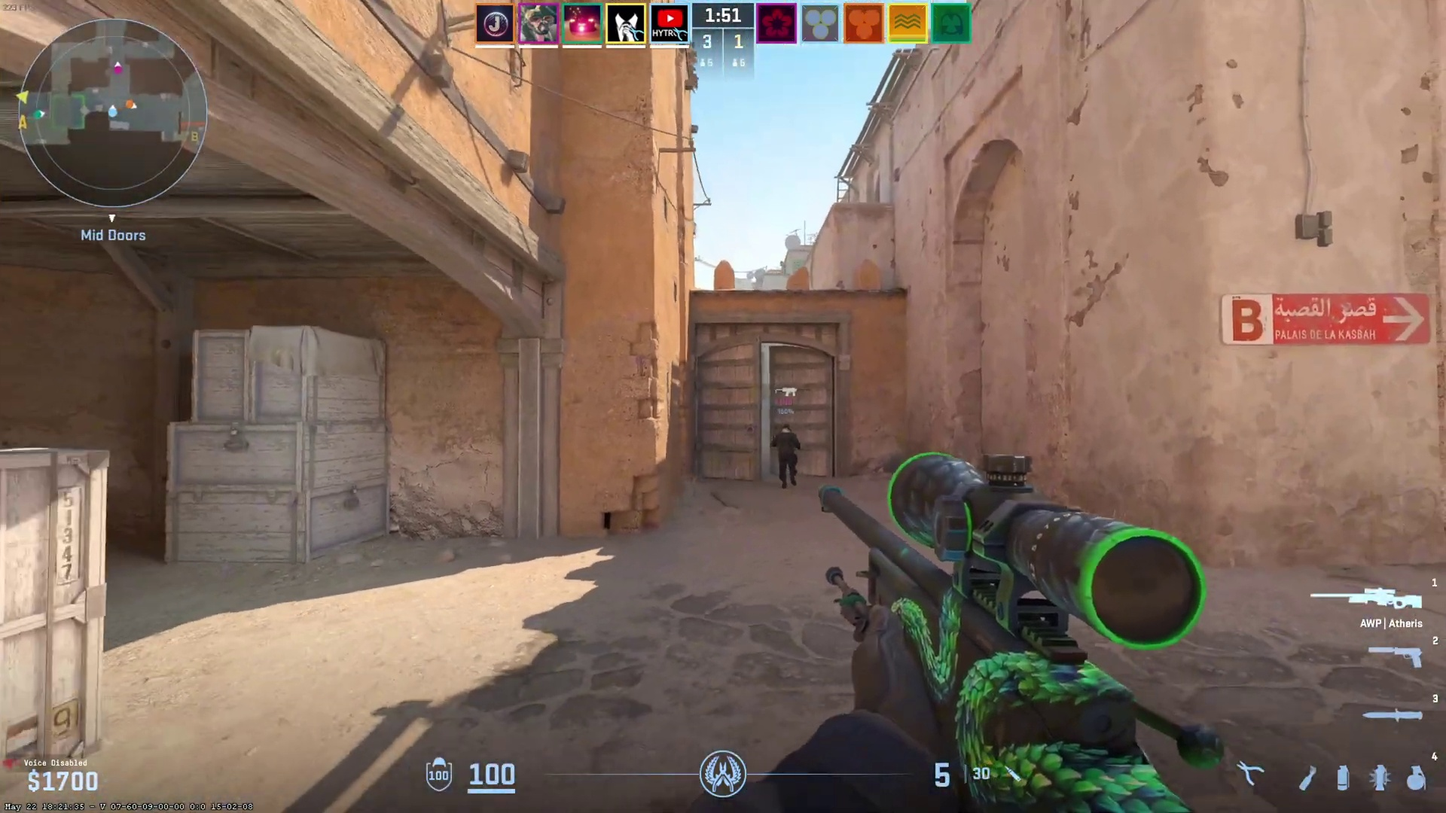CT: (777, 424, 800, 489)
